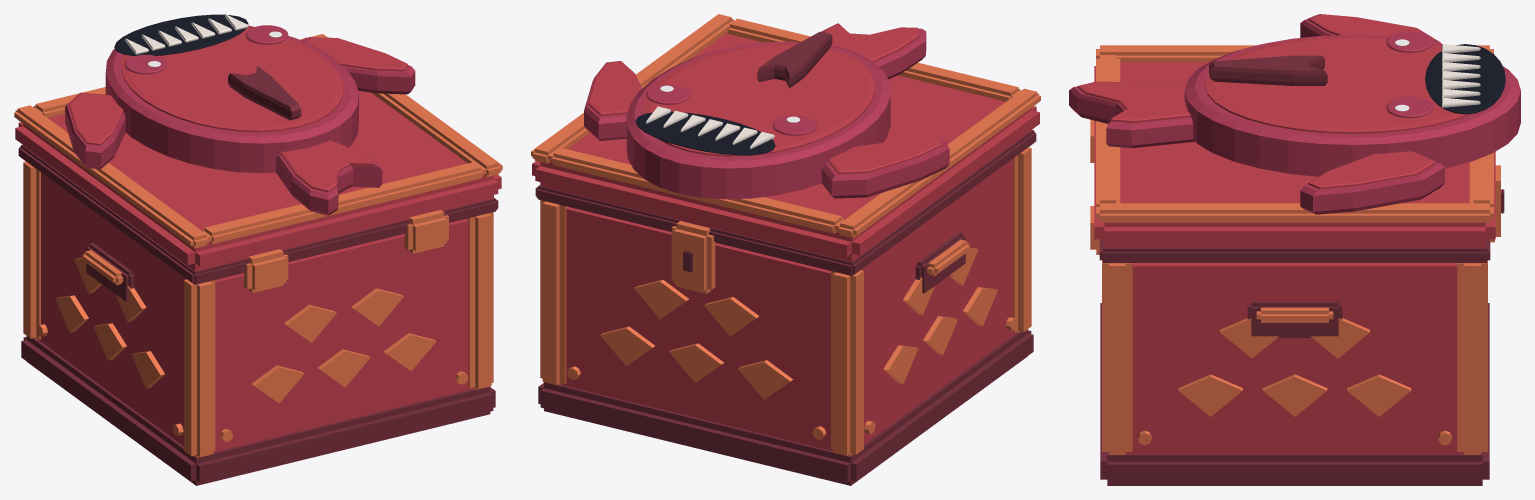
File: crate_piranha.fbx
3 renders of one model, left to right at view 1: azimuth 30°, elevation 25°; view 2: azimuth 150°, elevation 25°; view 3: azimuth 270°, elevation 25°, orthographic. The views are drawn at different scales.
Visible parts, largest first — view 1: crate_piranha_caixa; view 2: crate_piranha_caixa; view 3: crate_piranha_caixa.
Boxes of the visible parts, x1,y1,x2,y2 form: crate_piranha_caixa: [14, 14, 502, 485]; crate_piranha_caixa: [531, 14, 1040, 485]; crate_piranha_caixa: [1069, 14, 1520, 485].
Size of the model in its own units: 2.75 by 2.47 by 2.95.
1 material, 1 textured.
